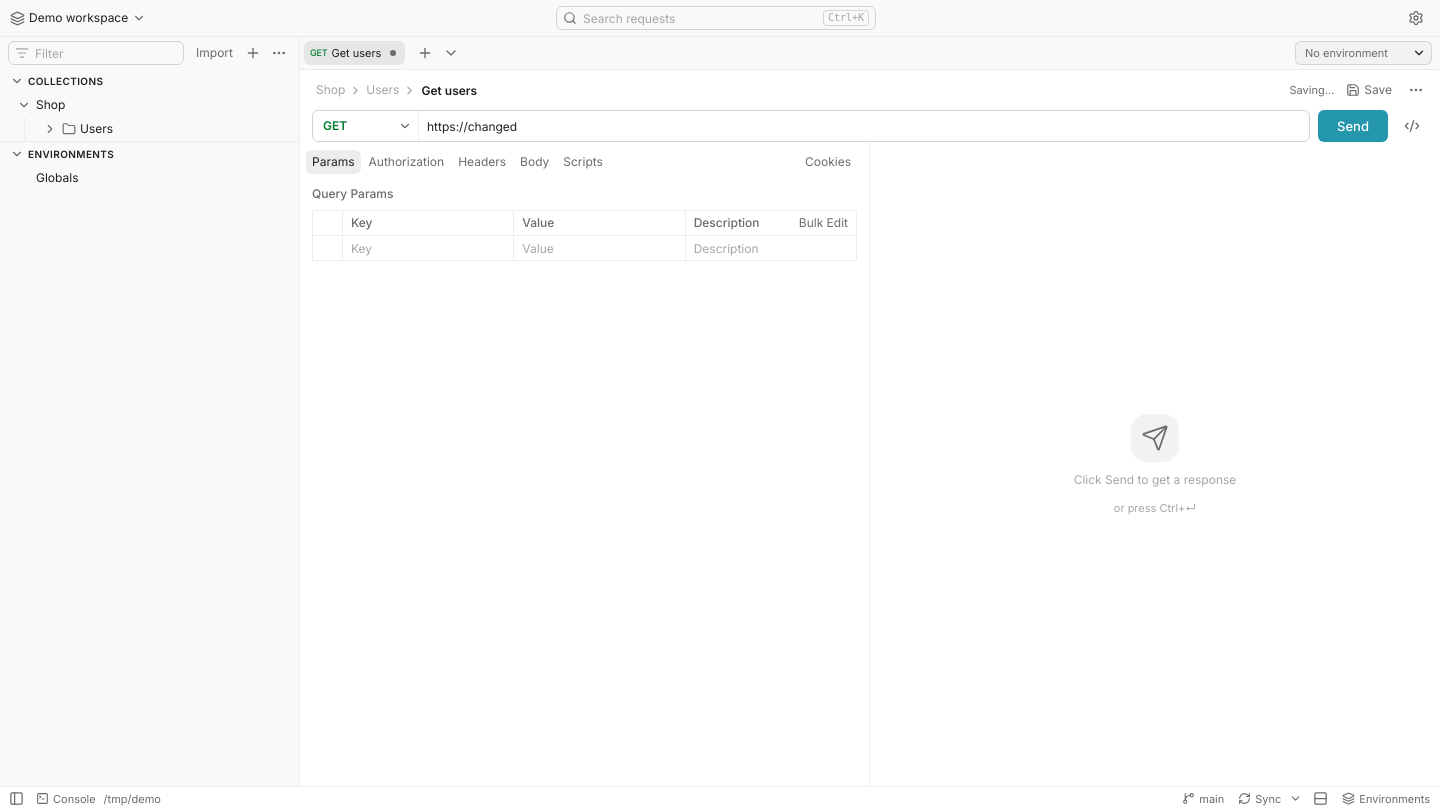
Test: Sync › flushes drafts before the operation and refreshes the workspace after it
This screenshot has width=1440, height=810.
Expected: the text "main" is shown, x1=1199 y1=790 x2=1224 y2=806
Click the button named "More sync actions" at {"x": 1296, "y": 798}, box x1=1287 y1=786 x2=1304 y2=809
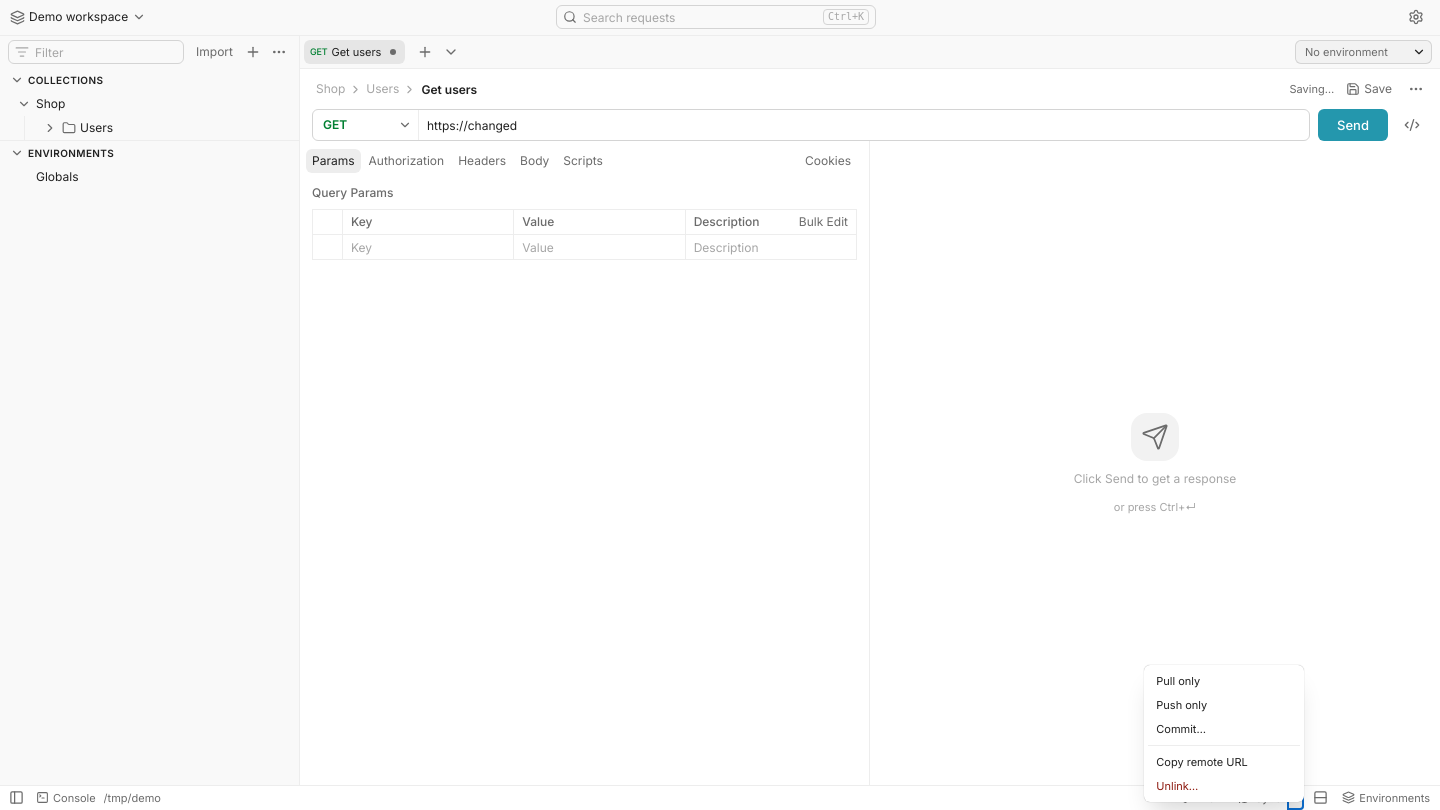
Click the menu item "Pull only" at {"x": 1224, "y": 681}, box x1=1148 y1=669 x2=1300 y2=693
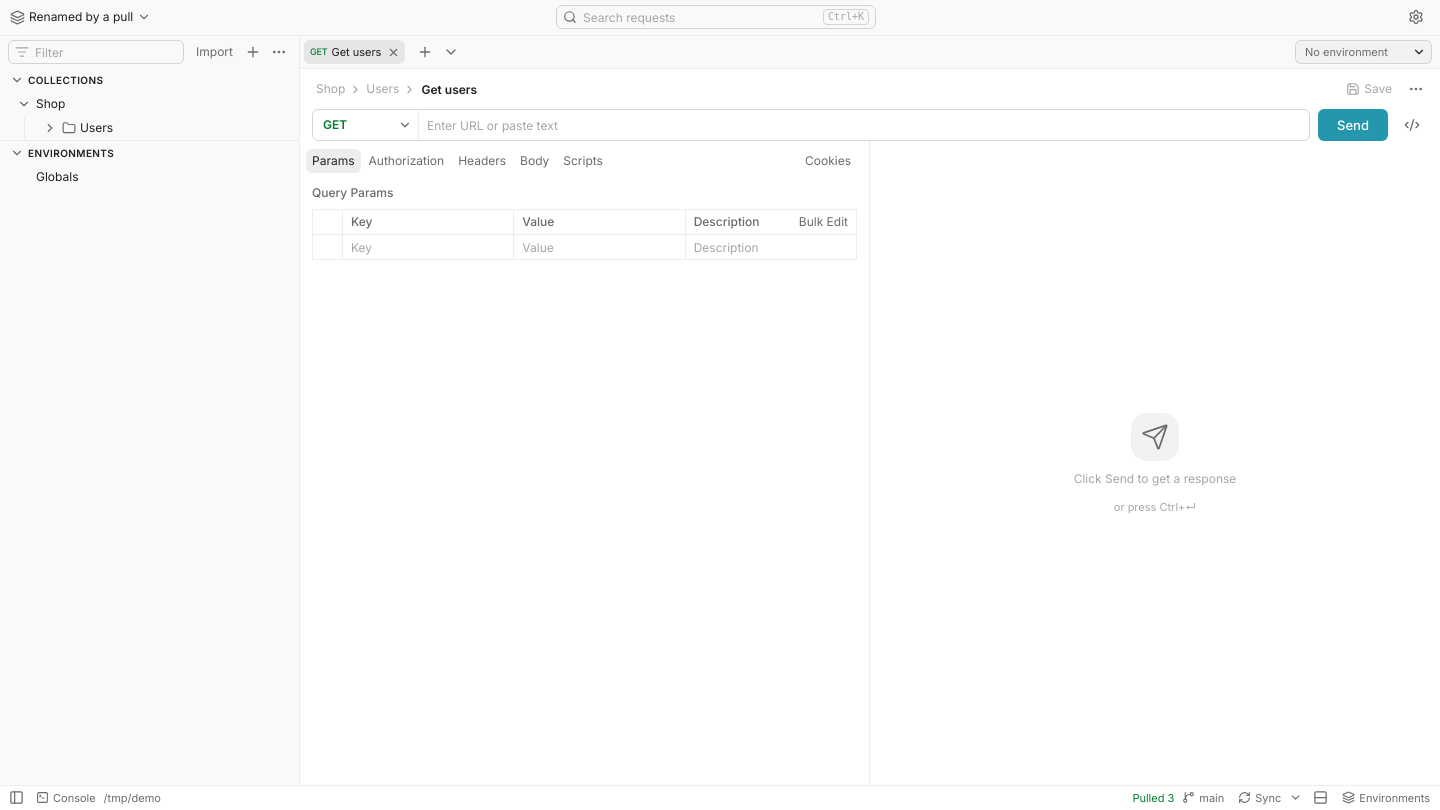
Now the text "Renamed by a pull" is shown, box x1=29 y1=7 x2=133 y2=27
Now the message reads "Pulled 3", box x1=1132 y1=790 x2=1174 y2=804
